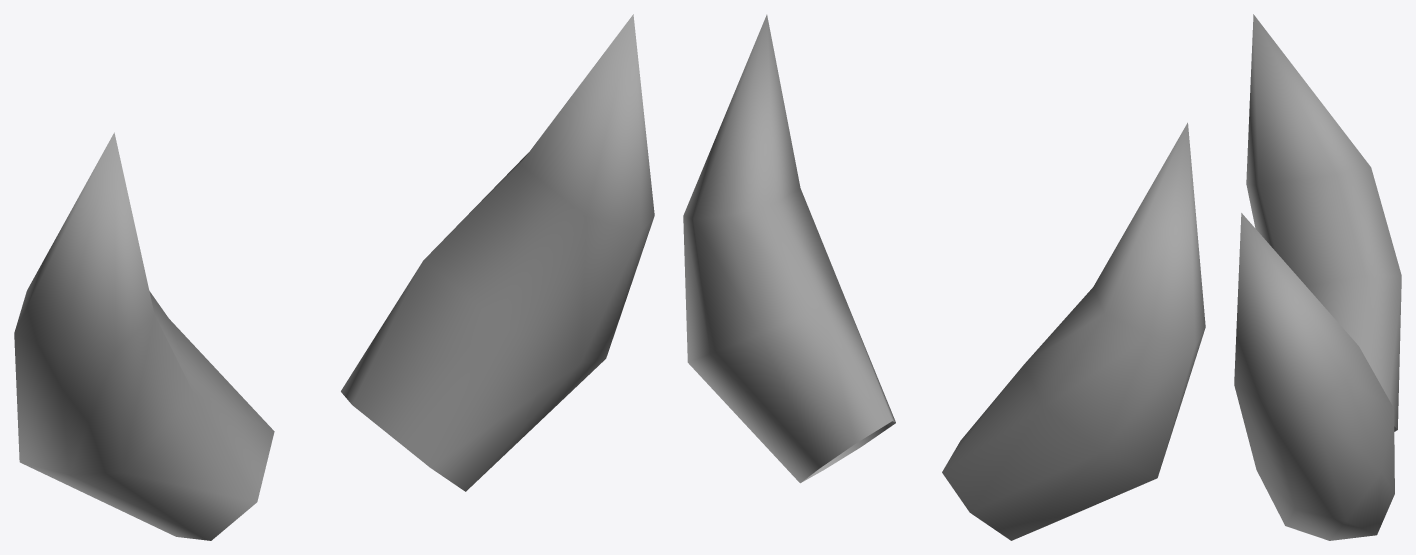
The model's file is fixed_rat_horns.fbx.
3 renders of one model, left to right at view 1: azimuth 30°, elevation 25°; view 2: azimuth 150°, elevation 25°; view 3: azimuth 270°, elevation 25°, orthographic. The views are drawn at different scales.
Visible parts, largest first — view 1: RatHorns; view 2: RatHorns; view 3: RatHorns.
Boxes of the visible parts, x1,y1,x2,y2 form: RatHorns: (14,14,654,540); RatHorns: (683,14,1205,540); RatHorns: (1234,14,1401,540).
Size of the model in its own units: 0.3917 by 0.2872 by 0.1157.
